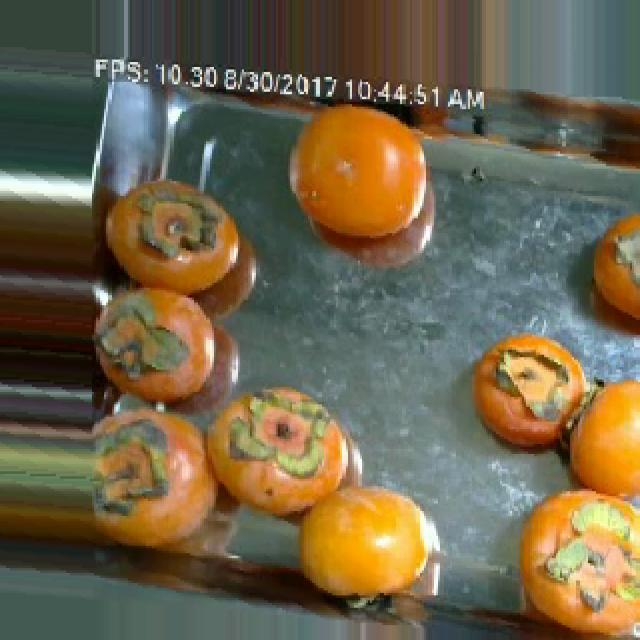Fruit: (268, 84, 462, 298), (278, 464, 450, 627), (552, 362, 640, 536), (576, 201, 640, 350)
